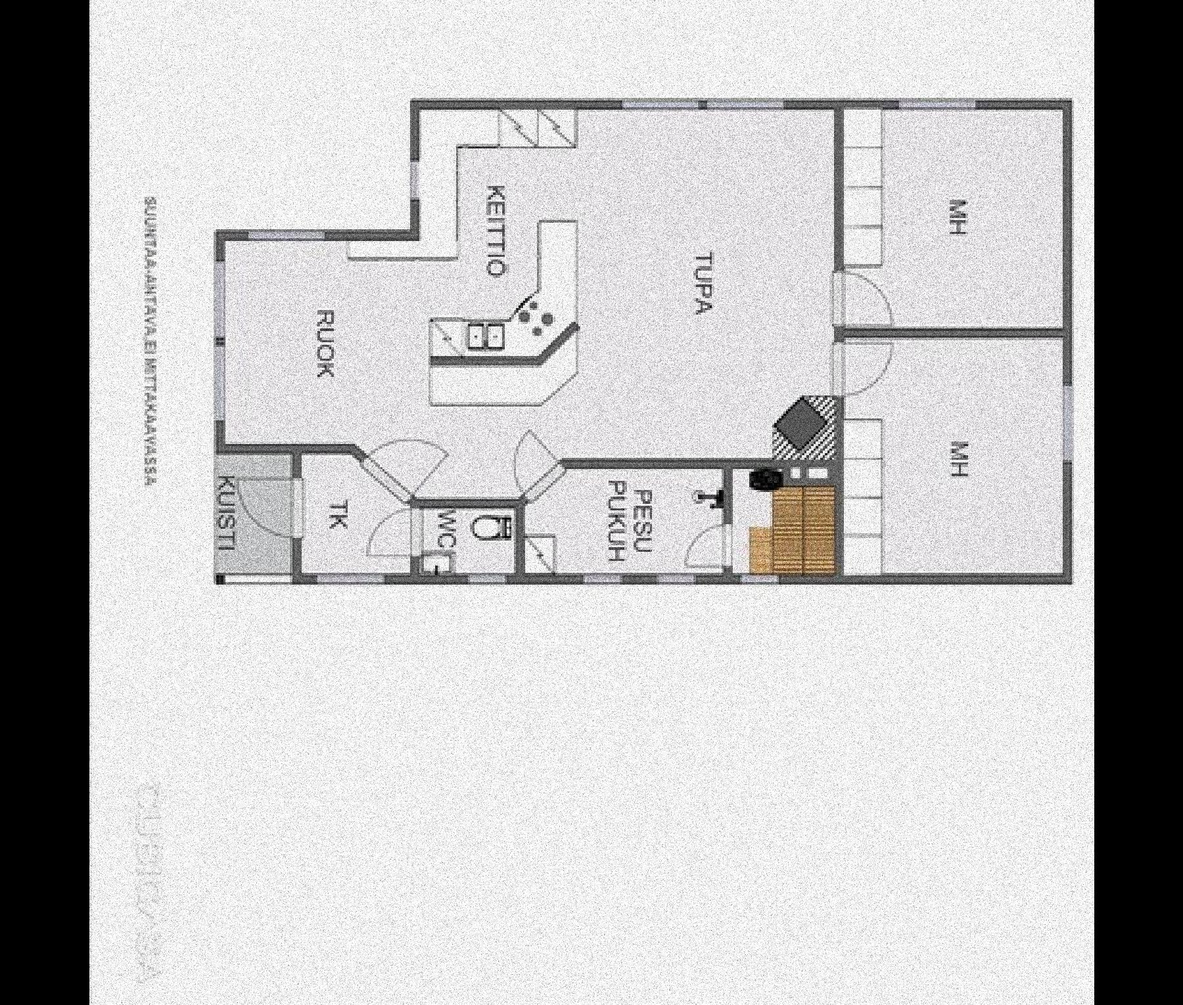door: (361, 426, 447, 510), (235, 471, 304, 542), (503, 433, 563, 512), (830, 268, 895, 331), (830, 337, 894, 399), (363, 504, 429, 562), (682, 528, 730, 569)
window: (208, 259, 230, 340), (1055, 382, 1076, 459), (208, 344, 227, 421), (707, 98, 787, 113), (243, 229, 327, 242), (895, 100, 976, 111), (622, 100, 700, 109), (657, 571, 698, 587), (588, 572, 626, 586), (467, 571, 504, 585), (407, 160, 419, 198), (321, 575, 378, 583), (739, 573, 774, 586)
zone: (228, 107, 839, 490), (848, 335, 1069, 574), (845, 100, 1067, 326), (525, 466, 726, 581), (307, 441, 429, 574), (728, 463, 840, 576), (215, 453, 289, 574), (425, 506, 513, 581)
